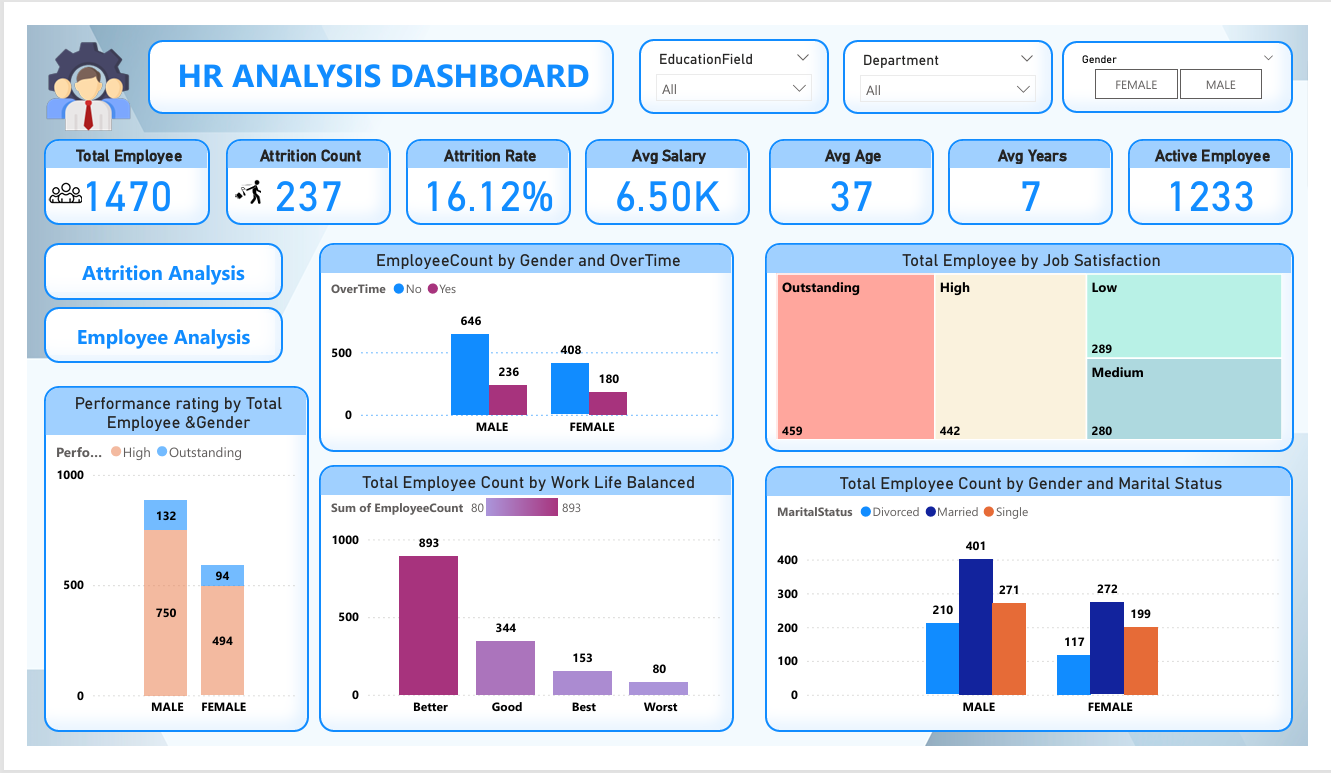

What the dashboard file says about the page in this screenshot:
{"tool":"powerbi","page":{"name":"Duplicate of Page 2","canvas":[1280,720],"ordinal":2},"visuals":[{"type":"slicer","title":"Attrition by Year at Company","fields":{"Values":["HR_Analytics.Gender"]},"box":[1034.2,14.8,231.3,72.6],"z":0},{"type":"slicer","fields":{"Values":["HR_Analytics.Department"]},"box":[815.1,14.4,210.3,73.4],"z":1000},{"type":"slicer","fields":{"Values":["HR_Analytics.EducationField"]},"box":[610.6,13,190.1,74.9],"z":2000},{"type":"textbox","box":[119.5,14.4,466.6,73.4],"z":3000},{"type":"image","box":[0,8.6,119.5,103.7],"z":4000},{"type":"actionButton","box":[15.8,280.8,239.1,56.2],"z":5000},{"type":"card","title":"Attrition Count","fields":{"Values":["HR_Analytics.Employees Left"]},"box":[197.7,113,165.4,86.1],"z":6000},{"type":"card","title":"Total Employee","fields":{"Values":["HR_Analytics.Total Employees"]},"box":[16.1,113,165.4,86.1],"z":7000},{"type":"card","title":"Attrition Rate","fields":{"Values":["HR_Analytics.AttritionRate"]},"box":[377.9,113,165.4,86.1],"z":8000},{"type":"card","title":"Avg Salary","fields":{"Values":["HR_Analytics.Avg Monthly Income"]},"box":[556.8,113,165.4,86.1],"z":9000},{"type":"card","title":"Avg Age","fields":{"Values":["HR_Analytics.Average Age"]},"box":[741,113,165.4,86.1],"z":10000},{"type":"card","title":"Avg Years","fields":{"Values":["Avg(HR_Analytics.YearsAtCompany)"]},"box":[919.9,113,165.4,86.1],"z":11000},{"type":"card","title":"Active Employee","fields":{"Values":["HR_Analytics.Active Employees"]},"box":[1100.1,113,165.4,86.1],"z":12000},{"type":"actionButton","box":[15.8,217.5,239.1,56.2],"z":13000},{"type":"clusteredColumnChart","title":"Total Employee Count by Gender and Marital Status","fields":{"Y":["Sum(HR_Analytics.EmployeeCount)"],"Series":["HR_Analytics.MaritalStatus"],"Category":["HR_Analytics.Gender"]},"box":[737,439.8,528.5,266.3],"z":14000},{"type":"columnChart","title":"Total Employee Count by Work Life Balanced","fields":{"Y":["Sum(HR_Analytics.EmployeeCount)"],"Category":["HR_Analytics.WorkLifeBalanced revised"]},"box":[290.9,439.2,414.8,266.4],"z":15000},{"type":"clusteredColumnChart","title":"EmployeeCount by Gender and OverTime","fields":{"Category":["HR_Analytics.Gender"],"Y":["Sum(HR_Analytics.EmployeeCount)"],"Series":["HR_Analytics.OverTime"]},"box":[290.9,217.5,414.8,208.8],"z":16000},{"type":"treemap","title":"Total Employee by Job Satisfaction","fields":{"Group":["HR_Analytics.Job Satisfaction New"],"Values":["Sum(HR_Analytics.EmployeeCount)"]},"box":[737.4,217.5,528.5,208.8],"z":17000},{"type":"columnChart","title":"Performance rating by Total Employee &Gender","fields":{"Category":["HR_Analytics.Gender"],"Series":["HR_Analytics.PerformanceCategory"],"Y":["Sum(HR_Analytics.EmployeeCount)"]},"box":[16.1,360.4,264.9,345.6],"z":18000},{"type":"image","box":[16,135,44.2,63.8],"z":19000},{"type":"image","box":[197.5,148.5,46.6,35.6],"z":20000}]}

Visuals, with their boxes in screenshot pixels (x1, y1, x2, y2):
"Attrition by Year at Company" slicer: Rect(1054, 39, 1283, 111)
slicer - HR_Analytics.Department: Rect(837, 39, 1045, 111)
slicer - HR_Analytics.EducationField: Rect(635, 37, 823, 111)
textbox: Rect(149, 39, 611, 111)
image: Rect(31, 33, 149, 135)
actionButton: Rect(47, 302, 283, 358)
"Attrition Count" card: Rect(227, 136, 390, 221)
"Total Employee" card: Rect(47, 136, 211, 221)
"Attrition Rate" card: Rect(405, 136, 569, 221)
"Avg Salary" card: Rect(582, 136, 746, 221)
"Avg Age" card: Rect(764, 136, 928, 221)
"Avg Years" card: Rect(941, 136, 1105, 221)
"Active Employee" card: Rect(1119, 136, 1283, 221)
actionButton: Rect(47, 239, 283, 295)
"Total Employee Count by Gender and Marital Status" clusteredColumnChart: Rect(760, 459, 1283, 723)
"Total Employee Count by Work Life Balanced" columnChart: Rect(319, 459, 729, 722)
"EmployeeCount by Gender and OverTime" clusteredColumnChart: Rect(319, 239, 729, 446)
"Total Employee by Job Satisfaction" treemap: Rect(761, 239, 1283, 446)
"Performance rating by Total Employee &Gender" columnChart: Rect(47, 381, 309, 723)
image: Rect(47, 158, 91, 221)
image: Rect(227, 171, 273, 206)
